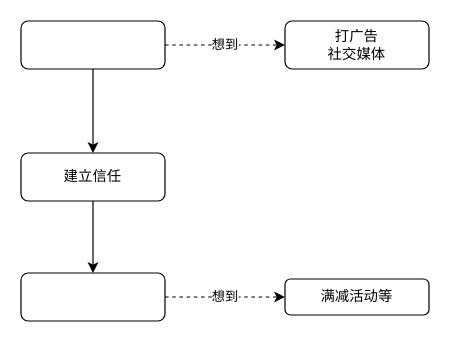
This 450x342 diagram has some shape labels left out. The centre of each missing label's shape, as x and y in pixels:
"获客（让大众知道你）" goes at [92,44].
"购买转化" goes at [92,296].
